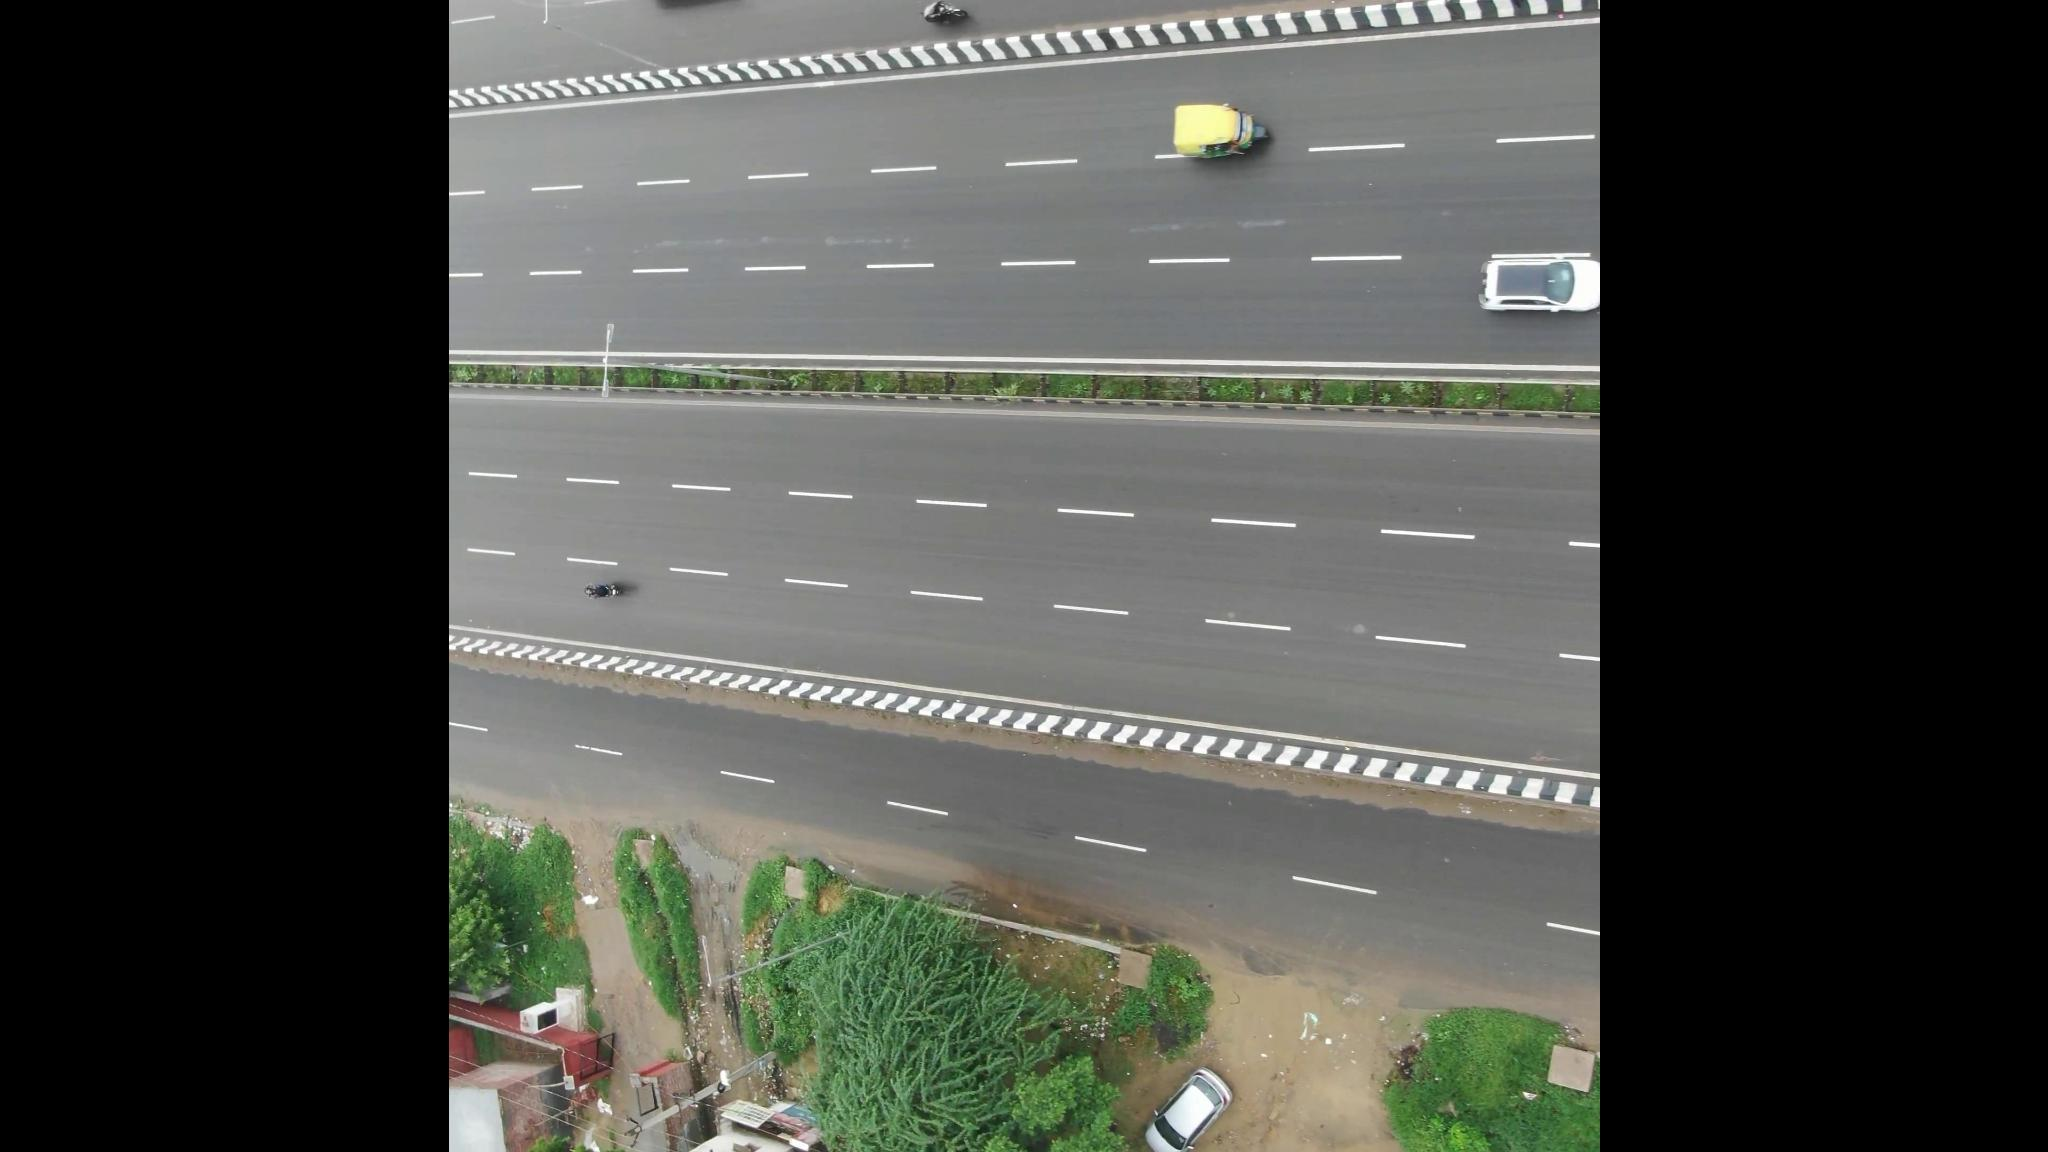Waterlogging: (679, 827, 734, 897)
